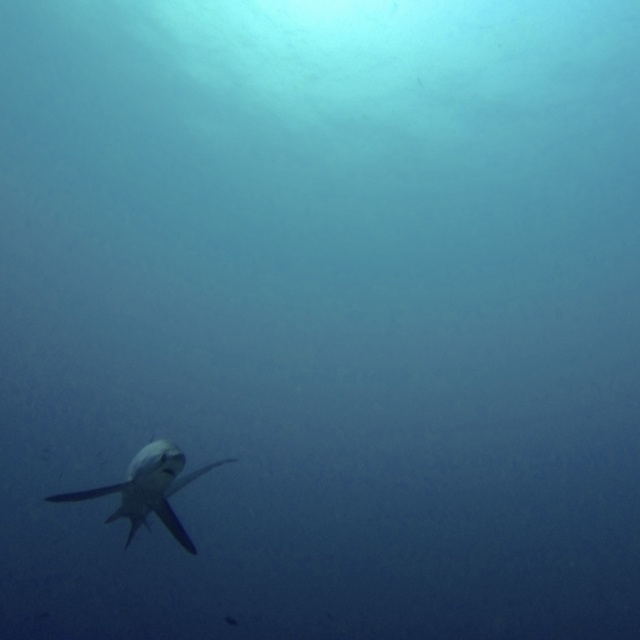Shark: (45, 434, 235, 555)
